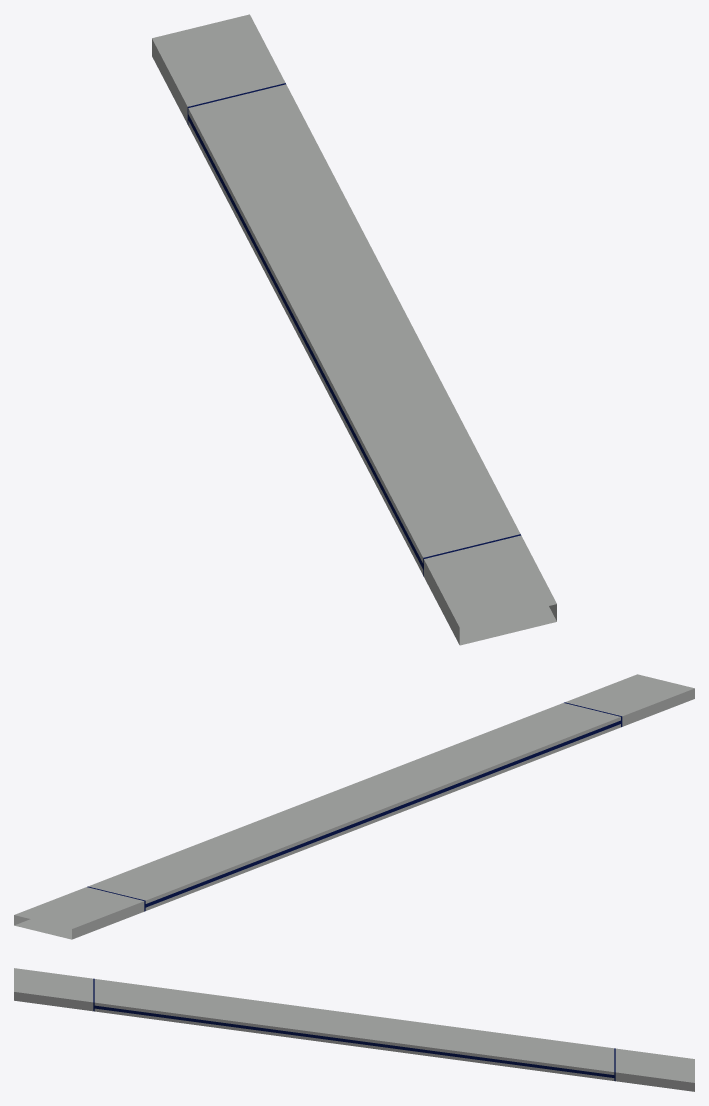
Rendered from W_O_Streetstand_001_a_L1.fbx.
3 views of the same model, one above another, from view 1: azimuth 30°, elevation 25°; view 2: azimuth 150°, elevation 25°; view 3: azimuth 270°, elevation 25° (orthographic). The views are drawn at different scales.
Parts seen in each view (by area): view 1: W_O_Streetstand_001_a_L1; view 2: W_O_Streetstand_001_a_L1; view 3: W_O_Streetstand_001_a_L1.
Part boxes in pixels (x1,y1,x2,y2): W_O_Streetstand_001_a_L1: [152, 14, 556, 645]; W_O_Streetstand_001_a_L1: [14, 674, 694, 939]; W_O_Streetstand_001_a_L1: [14, 968, 694, 1091].
Size of the model in its own units: 3.59 by 0.13 by 9.
